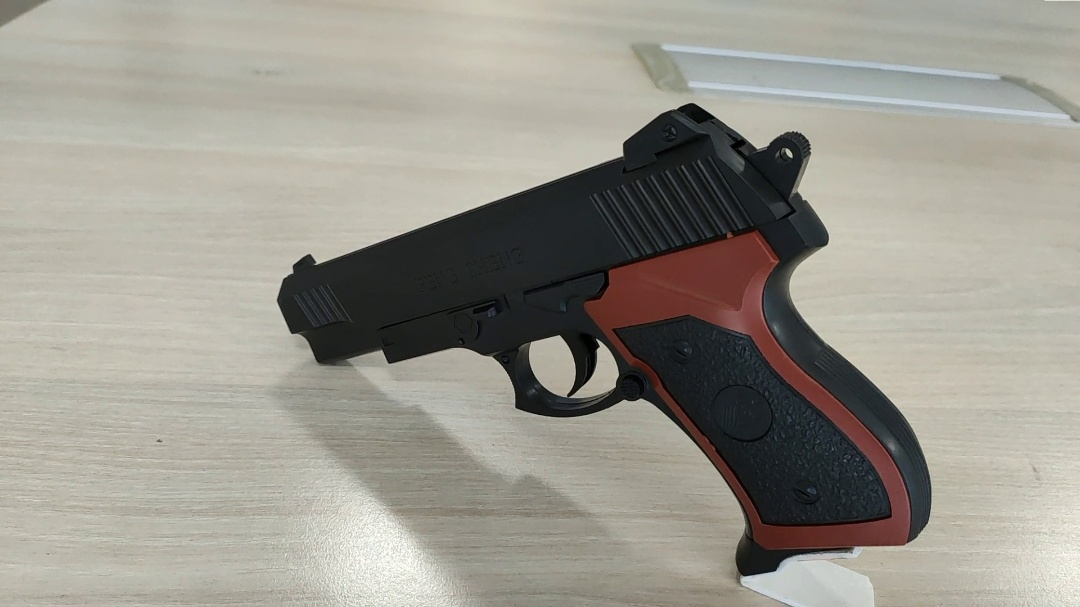gun: (576, 276, 654, 346)
